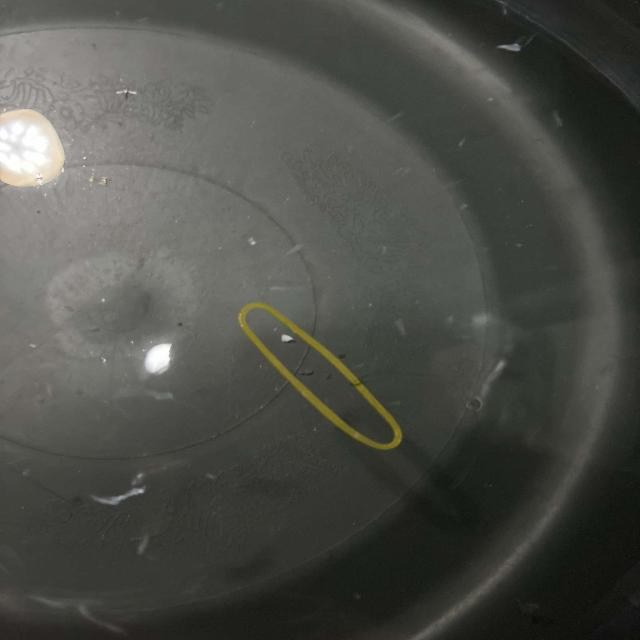Rubberband: (238, 303, 404, 451)
